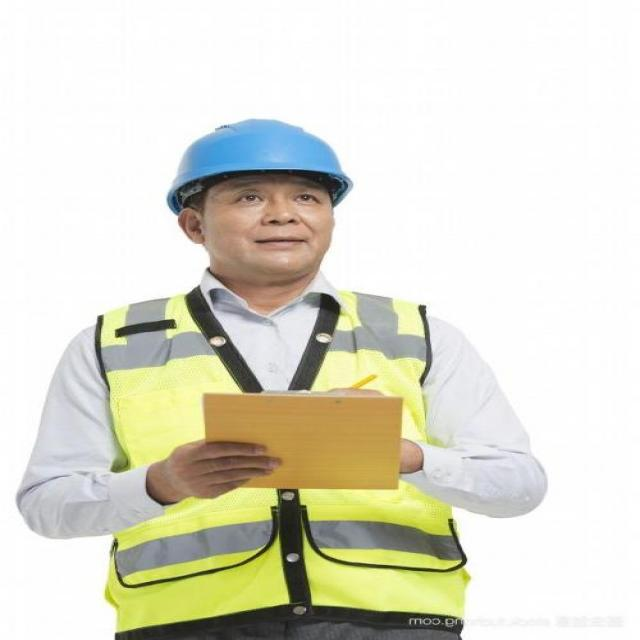Reflective-Jacket: (91, 288, 472, 632)
Safety-Helmet: (158, 114, 357, 203)
